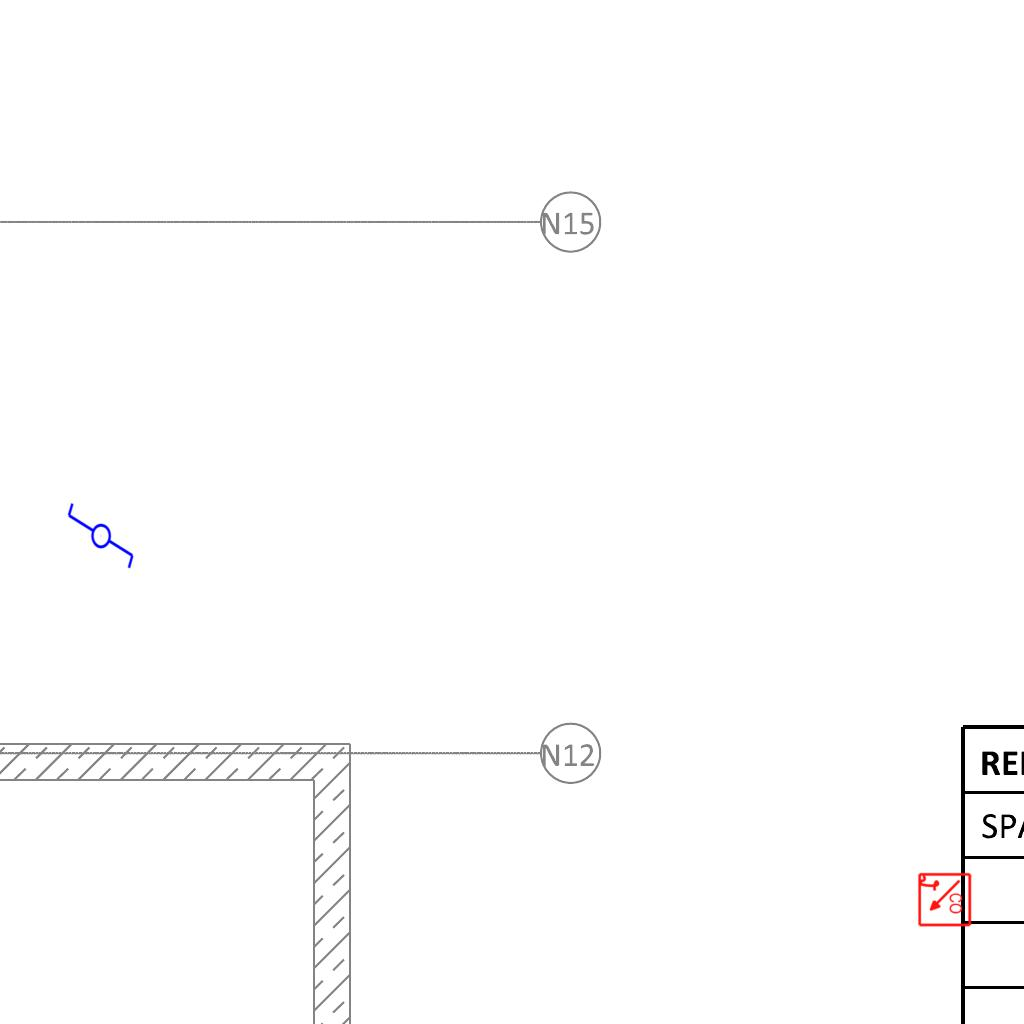ROA_Rauchmelder_optisch_mit_Signalgeber_(Sockelsirene): (916, 872, 972, 928)
Wechselschalter: (64, 501, 136, 579)
